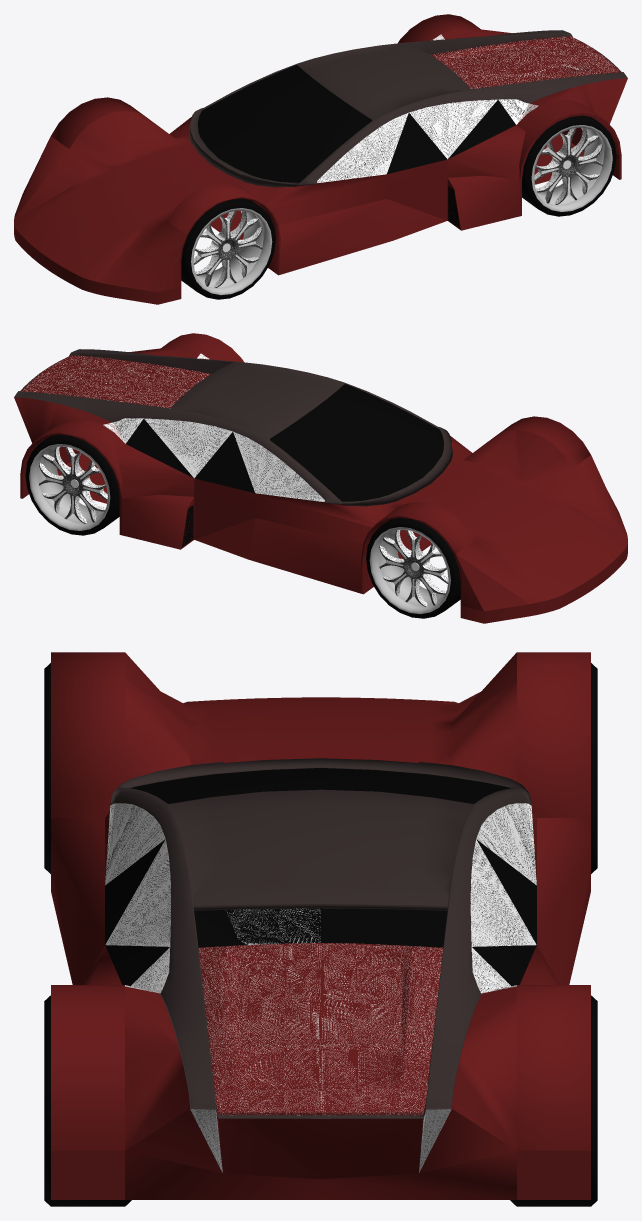
File: AutoSave_Untitled_1.dae
3 renders of one model, top to bottom at view 1: azimuth 30°, elevation 25°; view 2: azimuth 150°, elevation 25°; view 3: azimuth 270°, elevation 25°, orthographic. The views are drawn at different scales.
Visible parts, largest first — view 1: group_0 (×2), body_t0_a, window_f06, Component_7 (×6), trunk_a, Component_2 (×2); view 2: group_0 (×2), body_t0_a, window_f06, Component_7 (×6), trunk_a, Component_2 (×2); view 3: group_0 (×7), body_t0_a, trunk_a, window_f06, Component_7 (×4).
Part boxes in pixels (x1,y1,x2,y2): group_0 (×2): (14,14,627,304); body_t0_a: (189,30,627,187); window_f06: (198,65,371,182); Component_7 (×6): (181,115,616,299); trunk_a: (431,36,620,89); Component_2 (×2): (194,128,602,287); group_0 (×2): (14,333,627,623); body_t0_a: (14,349,452,506); window_f06: (270,384,443,501); Component_7 (×6): (25,434,460,618); trunk_a: (21,355,210,408); Component_2 (×2): (39,447,447,606); group_0 (×7): (51,652,590,1199); body_t0_a: (110,758,531,1118); trunk_a: (198,943,443,1115); window_f06: (131,768,510,803); Component_7 (×4): (44,663,597,1206).
Bounding box in the file's own units: 188 × 80.46 × 39.47.
